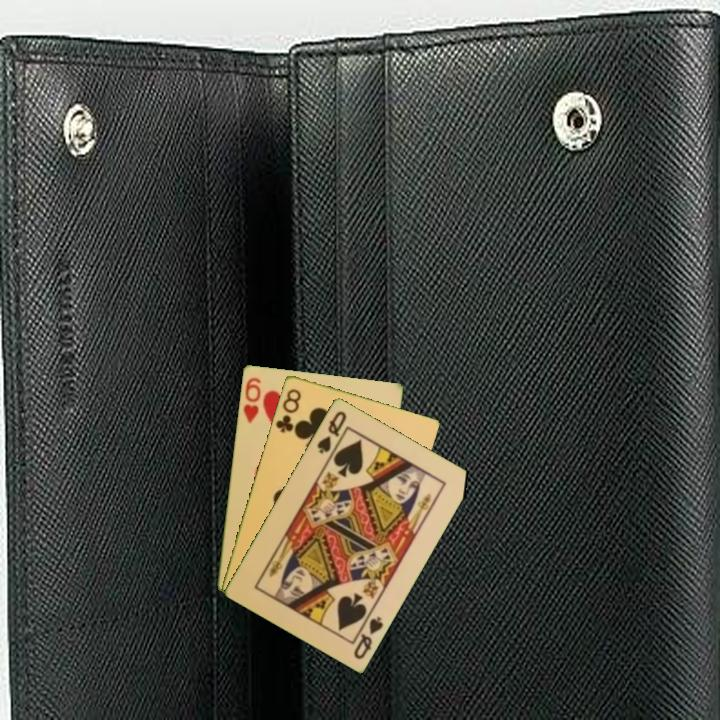6h: (239, 374, 263, 425)
8c: (272, 385, 304, 435)
Qs: (313, 407, 349, 457), (350, 612, 386, 662)
